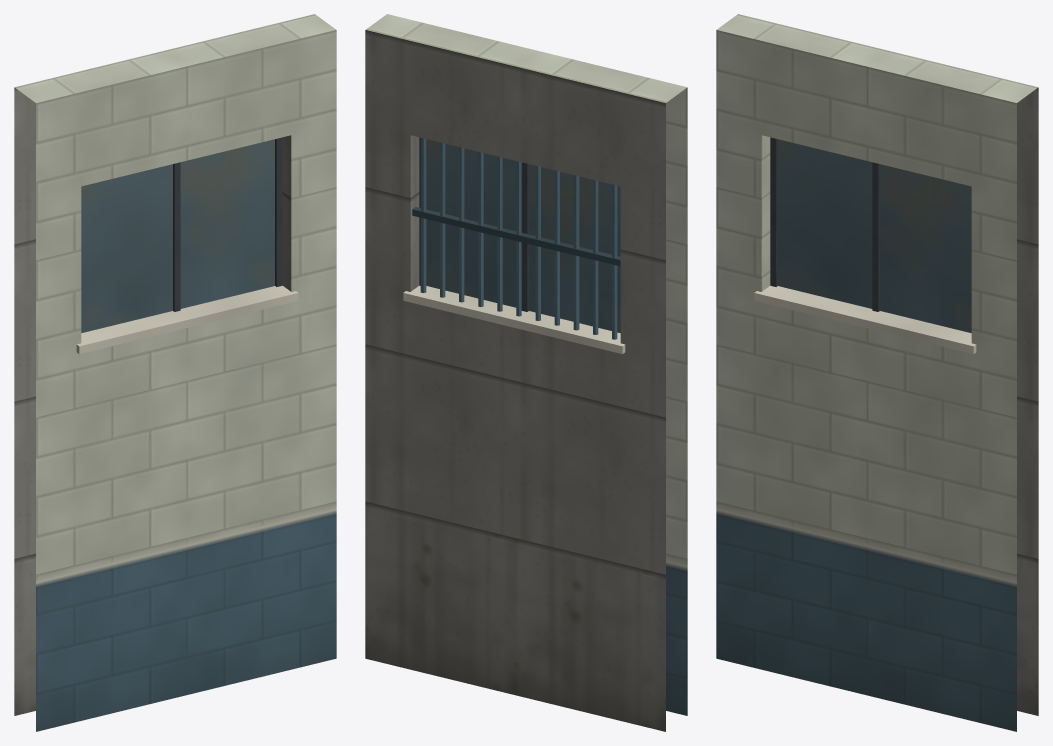
Rendered from wall_prison_window.fbx.
The picture shows the model from 3 angles, left to right: view 1: azimuth 30°, elevation 25°; view 2: azimuth 150°, elevation 25°; view 3: azimuth 330°, elevation 25°; orthographic projection.
Visible parts, largest first — view 1: wall_prison_window; view 2: wall_prison_window; view 3: wall_prison_window.
Part boxes in pixels (x1,y1,x2,y2): wall_prison_window: [14, 14, 336, 731]; wall_prison_window: [365, 14, 687, 731]; wall_prison_window: [716, 14, 1038, 731].
Bounding box in the file's own units: 2 × 4 × 0.31.
Materials: 1 (1 with a texture image).
